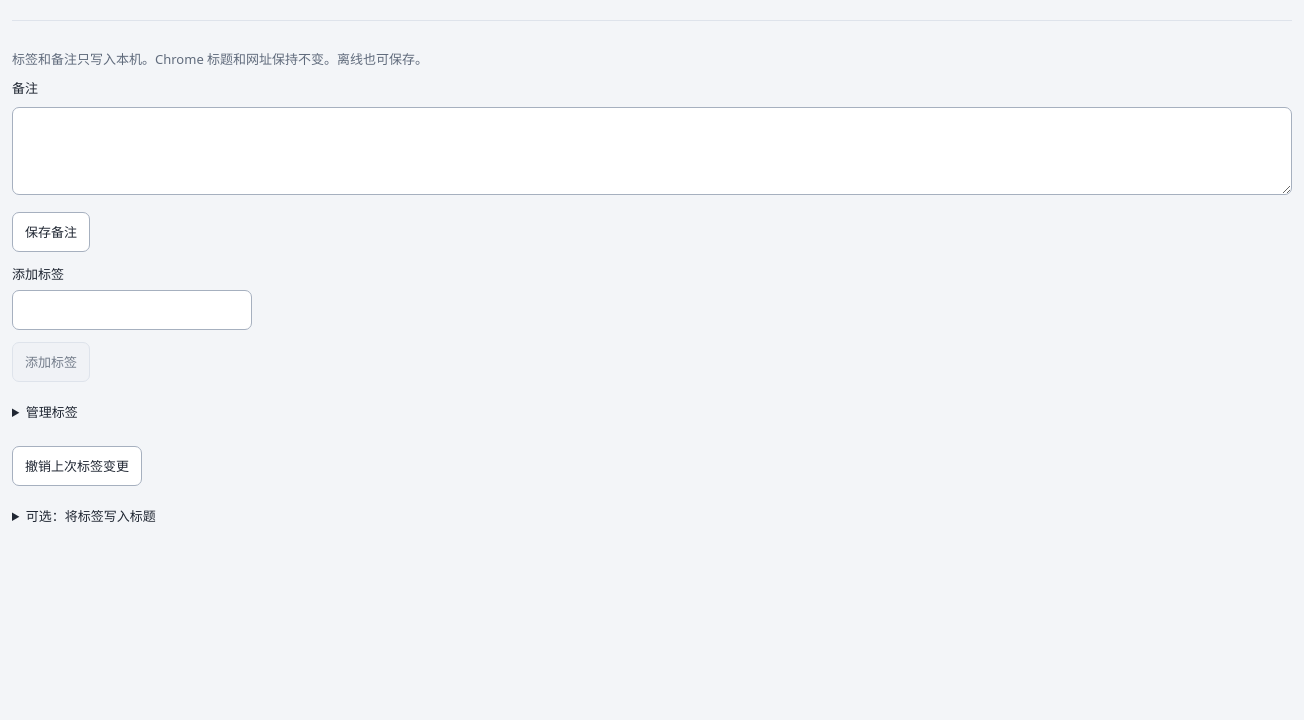
R05 keeps a draft when the server detects an epoch reset before the UI does
The width and height of the screenshot is (1304, 720).
Expected: the button "保存备注" is enabled, [12,212,90,252]
Type "仍需保留" into the text box labelled "备注" at x=652, y=151, box [12,107,1292,195]
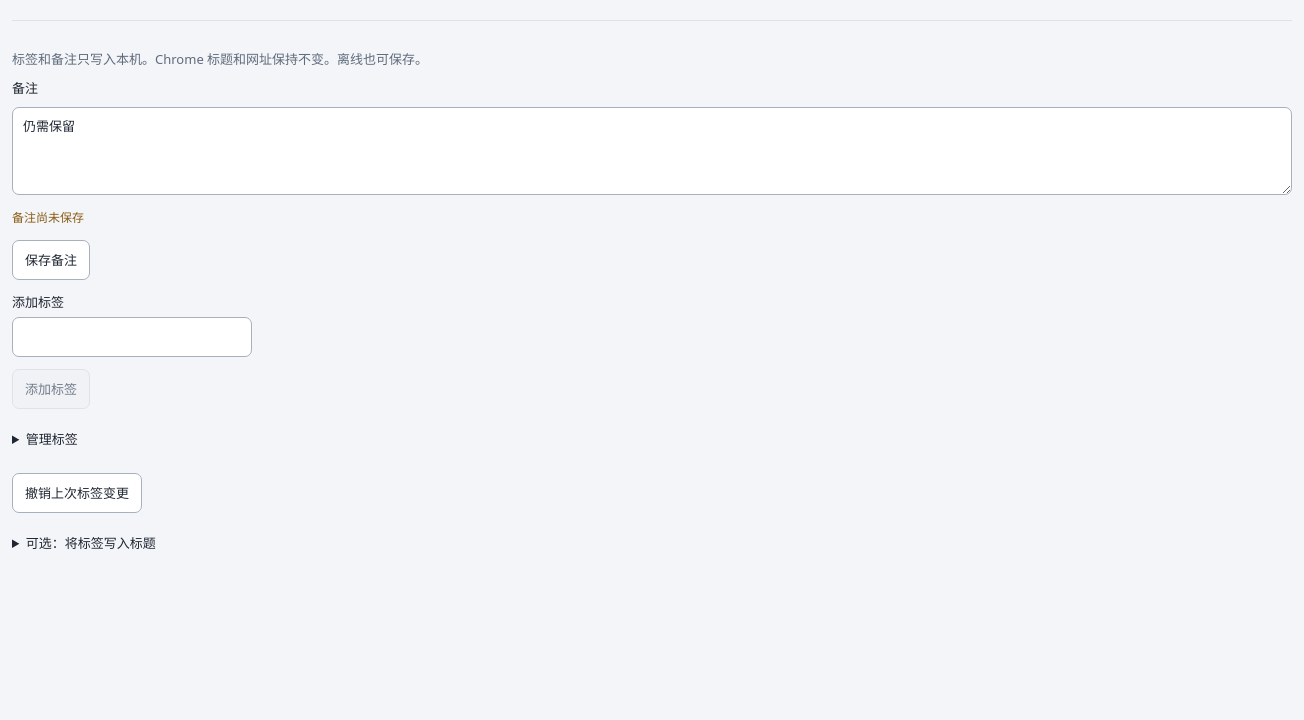
Click the button "保存备注" at x=51, y=260, box [12,240,90,280]
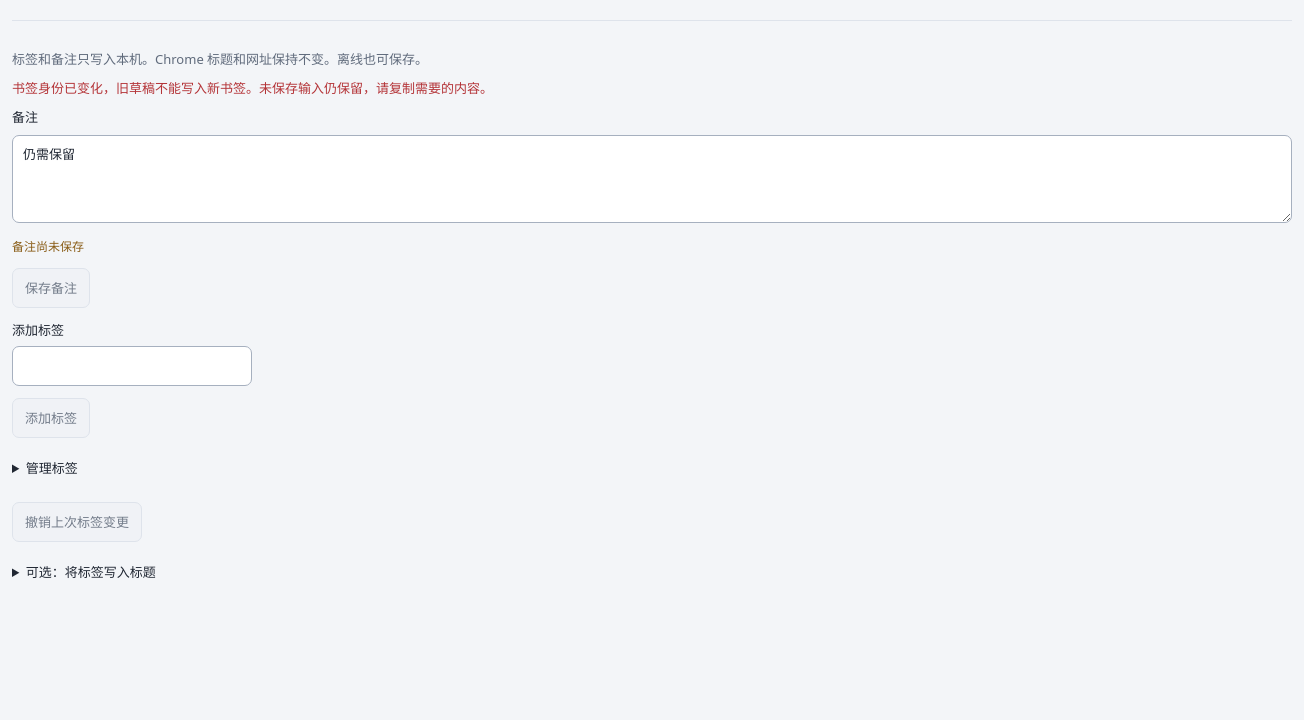
Now the text "书签身份已变化，旧草稿不能写入新书签。未保存输入仍保留，请复制需要的内容。" is shown, box [12,78,570,99]
Now the button "保存备注" is disabled, box [12,268,90,308]
